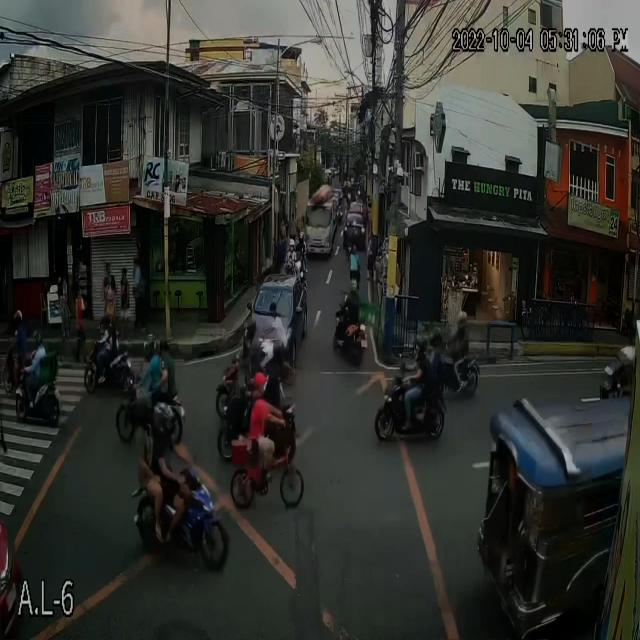Full-Faced: (452, 306, 471, 341), (154, 403, 174, 432), (412, 334, 428, 362), (348, 271, 362, 298), (26, 328, 44, 346), (428, 325, 438, 356), (11, 307, 25, 328), (142, 333, 156, 354), (98, 316, 112, 336), (242, 320, 255, 341), (157, 336, 170, 355), (286, 233, 297, 250), (296, 227, 305, 239)
Not-Wearing-Helmet: (250, 373, 271, 398), (269, 300, 281, 323)
